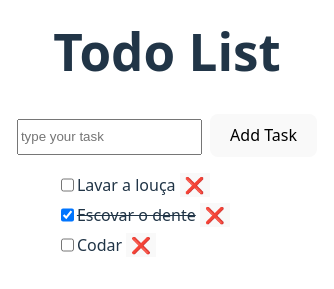
TodoList › should add new task when clicking add button
Type "Nova tarefa" into the field with placeholder "type your task". click: (109,137)
box: [17,119,202,155]
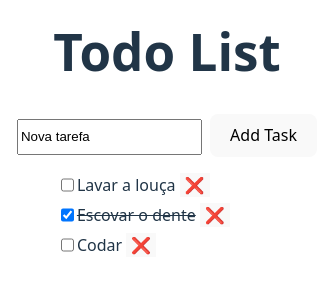
Click the button "Add Task". click: (264,136)
box: [210,114,317,157]
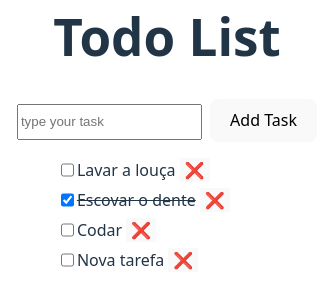
Expected: the text "Nova tarefa" is shown, [77,248,164,272]
